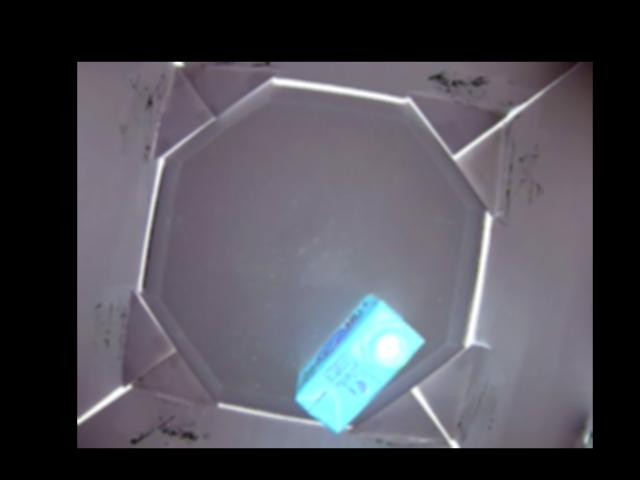Bottle: (294, 292, 424, 433)
